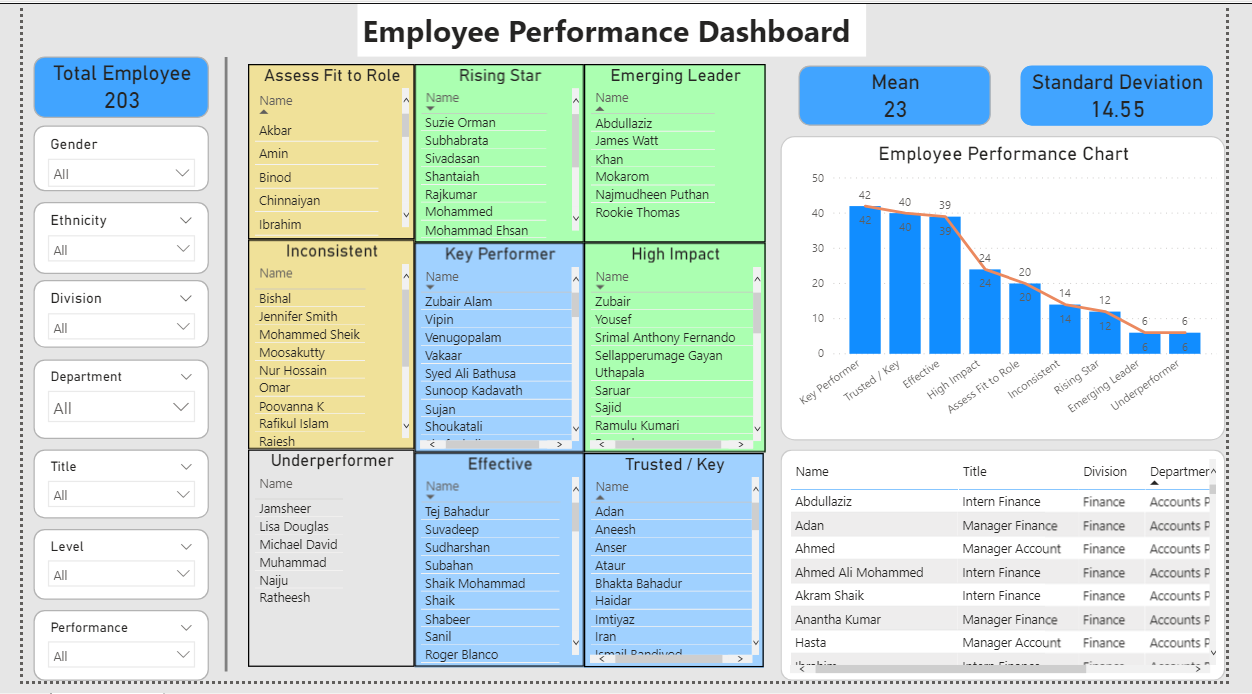

Layout of this report page (visuals, bound fields, positions):
{"tool":"powerbi","page":{"name":"Page 1","canvas":[1280,720],"ordinal":0},"visuals":[{"type":"card","title":"Total Employee","fields":{"Values":["Sample Data.Total Employee"]},"box":[11.2,55.9,186.8,65.5],"z":1000},{"type":"textbox","box":[356,0,541.2,55.9],"z":2000},{"type":"tableEx","fields":{"Values":["Sample Data.Name","Sample Data.Title","Sample Data.Division","Sample Data.Department","Sample Data.9 Box Assignment "]},"box":[806.6,473.4,473.4,246.2],"z":3000},{"type":"lineClusteredColumnComboChart","title":"Employee Performance Chart","fields":{"Category":["Sample Data.9 Box Assignment "],"Y":["Sample Data.Name"],"Y2":["Sample Data.Name"]},"box":[806.6,140.1,473.4,323.8],"z":4000},{"type":"card","title":"Mean","fields":{"Values":["Sample Data.Mean"]},"box":[825.4,65.5,204.3,63.9],"z":5000},{"type":"slicer","fields":{"Values":["Sample Data.Gender"]},"box":[11.2,129.3,186.8,70.2],"z":6000},{"type":"slicer","fields":{"Values":["Sample Data.Ethnicity"]},"box":[11.2,210.7,186.8,76.6],"z":7000},{"type":"slicer","fields":{"Values":["Sample Data.Division"]},"box":[11.2,293.7,186.8,71.8],"z":8000},{"type":"slicer","fields":{"Values":["Sample Data.Department"]},"box":[11.2,378.4,186.8,84.6],"z":9000},{"type":"slicer","fields":{"Values":["Sample Data.Title"]},"box":[11.2,474.1,186.8,73.4],"z":10000},{"type":"slicer","fields":{"Values":["Sample Data.Level"]},"box":[11.2,558.8,186.8,75],"z":11000},{"type":"slicer","fields":{"Values":["Sample Data.9 Box Assignment "]},"box":[11.2,645,186.8,75],"z":12000},{"type":"basicShape","box":[170.8,46.3,91,673.7],"z":13000},{"type":"tableEx","title":"Assess Fit to Role","fields":{"Values":["Sample Data.Name"]},"box":[239.5,63.9,177.2,186.8],"z":14000},{"type":"tableEx","title":"Rising Star","fields":{"Values":["Sample Data.Name"]},"box":[416.7,63.9,180.4,190],"z":15000},{"type":"tableEx","title":"Emerging Leader","fields":{"Values":["Sample Data.Name"]},"box":[597.1,63.9,193.2,190],"z":16000},{"type":"tableEx","title":"Inconsistent","fields":{"Values":["Sample Data.Name"]},"box":[239.5,250.6,177.2,223.5],"z":17000},{"type":"tableEx","title":"Key Performer","fields":{"Values":["Sample Data.Name"]},"box":[416.7,253.8,180.4,223.5],"z":18000},{"type":"tableEx","title":"High Impact","fields":{"Values":["Sample Data.Name"]},"box":[597.1,253.8,193.2,223.5],"z":19000},{"type":"tableEx","title":"Underperformer","fields":{"Values":["Sample Data.Name"]},"box":[239.5,474.1,177.2,231.5],"z":20000},{"type":"tableEx","title":"Effective","fields":{"Values":["Sample Data.Name"]},"box":[416.7,477.3,180.4,228.3],"z":21000},{"type":"tableEx","title":"Trusted / Key","fields":{"Values":["Sample Data.Name"]},"box":[597.1,477.3,191.6,228.3],"z":22000},{"type":"card","title":"Standard Deviation","fields":{"Values":["Sample Data.Standard Deviation"]},"box":[1061.6,65.5,204.3,63.9],"z":22001}]}

Visuals, with their boxes in screenshot pixels (x1, y1, x2, y2), scaled from the page's 1280x720 canvas onto the 1252x694 screenshot:
"Total Employee" card: 11, 54, 194, 117
textbox: 348, 0, 878, 54
tableEx - Sample Data.Name x Sample Data.Title: 789, 456, 1251, 693
"Employee Performance Chart" lineClusteredColumnComboChart: 789, 135, 1251, 447
"Mean" card: 807, 63, 1007, 125
slicer - Sample Data.Gender: 11, 125, 194, 192
slicer - Sample Data.Ethnicity: 11, 203, 194, 277
slicer - Sample Data.Division: 11, 283, 194, 352
slicer - Sample Data.Department: 11, 365, 194, 446
slicer - Sample Data.Title: 11, 457, 194, 528
slicer - Sample Data.Level: 11, 539, 194, 611
slicer - Sample Data.9 Box Assignment : 11, 622, 194, 693
basicShape: 167, 45, 256, 693
"Assess Fit to Role" tableEx: 234, 62, 408, 242
"Rising Star" tableEx: 408, 62, 584, 245
"Emerging Leader" tableEx: 584, 62, 773, 245
"Inconsistent" tableEx: 234, 242, 408, 457
"Key Performer" tableEx: 408, 245, 584, 460
"High Impact" tableEx: 584, 245, 773, 460
"Underperformer" tableEx: 234, 457, 408, 680
"Effective" tableEx: 408, 460, 584, 680
"Trusted / Key" tableEx: 584, 460, 771, 680
"Standard Deviation" card: 1038, 63, 1238, 125
